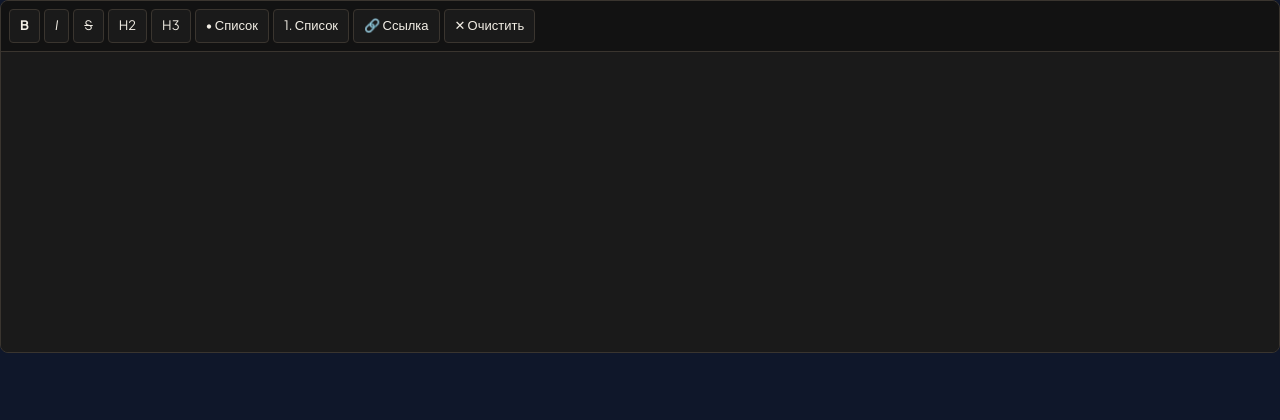
WysiwygEditor › открывает попап вставки ссылки вместо window.prompt
Click the button titled "Вставить ссылку".
click(396, 26)  # box [353, 9, 440, 42]
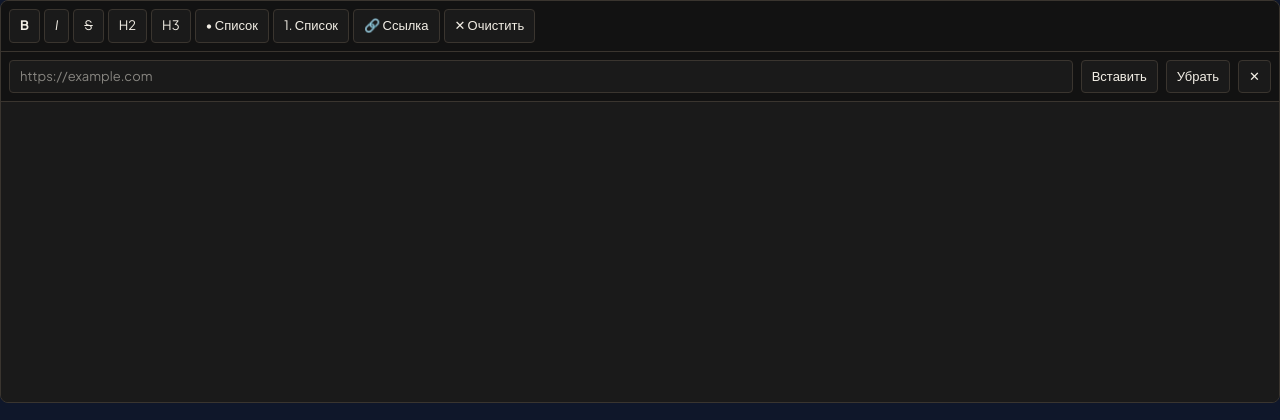
Check: the field with placeholder "https://example.com" is shown, box [9, 60, 1073, 93]
